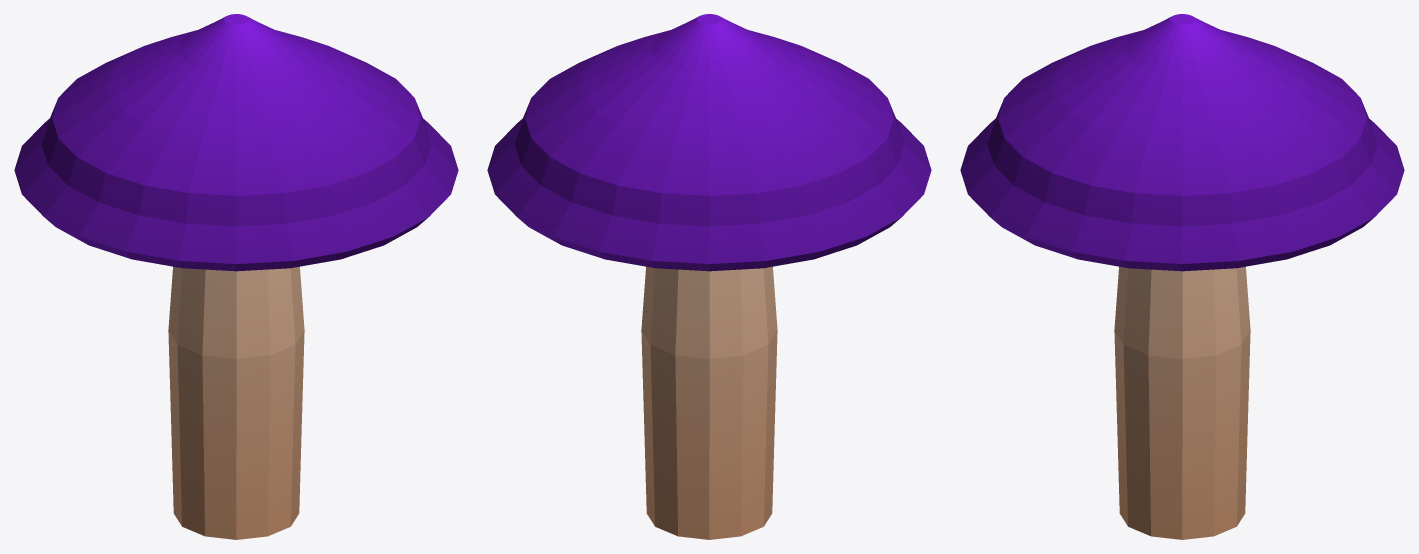
The model's file is Mushroom2.fbx.
The picture shows the model from 3 angles, left to right: view 1: azimuth 30°, elevation 25°; view 2: azimuth 150°, elevation 25°; view 3: azimuth 270°, elevation 25°; orthographic projection.
Parts seen in each view (by area): view 1: Mushroom2; view 2: Mushroom2; view 3: Mushroom2.
Part boxes in pixels (x1,y1,x2,y2): Mushroom2: (14, 14, 458, 539); Mushroom2: (487, 14, 931, 539); Mushroom2: (960, 14, 1404, 539).
Bounding box in the file's own units: 0.9266 × 1.14 × 0.9266.
